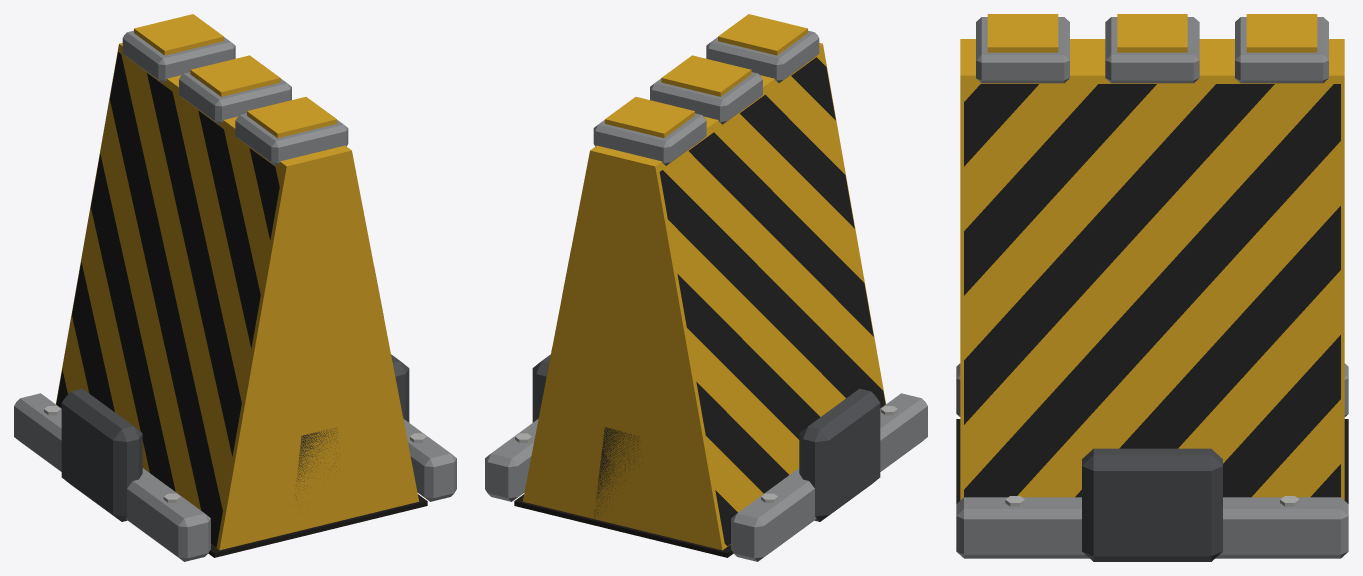
The model's file is gate.glb.
3 views of the same model, side by side, from view 1: azimuth 30°, elevation 25°; view 2: azimuth 150°, elevation 25°; view 3: azimuth 270°, elevation 25° (orthographic). The views are drawn at different scales.
Visible parts, largest first — view 1: anim_gate_door, body; view 2: anim_gate_door, body; view 3: anim_gate_door, body.
Boxes of the visible parts, <box> form: anim_gate_door: <box>56,14,419,550</box>; body: <box>14,354,456,561</box>; anim_gate_door: <box>522,14,885,550</box>; body: <box>485,354,927,561</box>; anim_gate_door: <box>960,14,1344,500</box>; body: <box>956,363,1348,561</box>.
Bounding box in the file's own units: 1 × 1.28 × 1.
